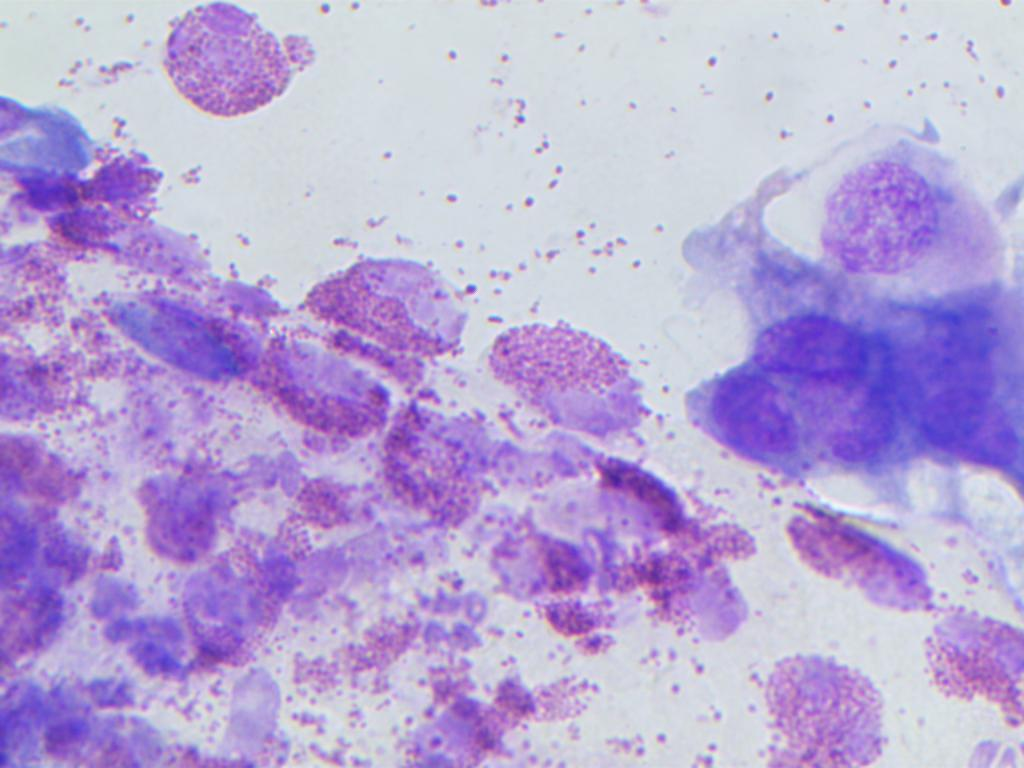eosinophil: (476, 292, 668, 457), (146, 2, 319, 141), (622, 507, 784, 648), (0, 137, 168, 262), (391, 666, 596, 768), (293, 239, 463, 353), (787, 503, 928, 618), (759, 652, 898, 768), (173, 542, 302, 658), (382, 400, 493, 530), (925, 592, 1024, 732), (264, 340, 379, 458), (492, 524, 603, 607)
epithelial: (812, 152, 942, 282), (131, 454, 261, 556), (0, 412, 97, 517), (744, 311, 868, 382), (705, 368, 787, 466)
neutrophil: (4, 493, 100, 649), (2, 669, 151, 768), (83, 556, 196, 670)
